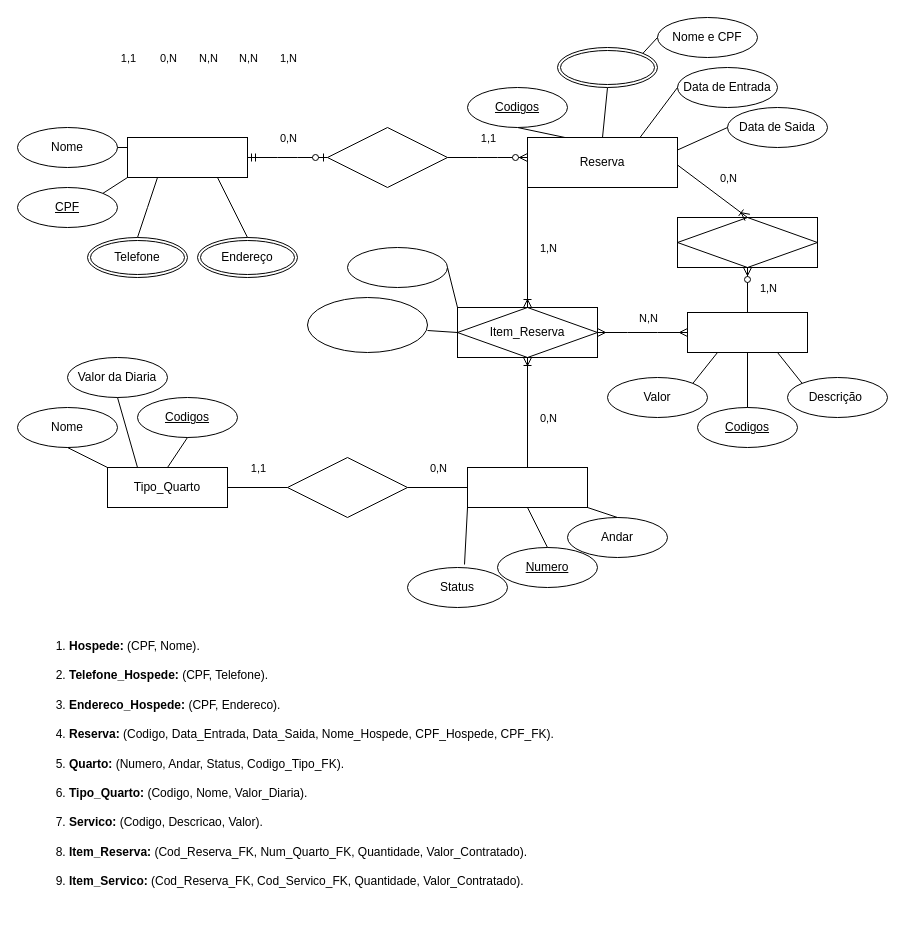
Image size: 905x925. Some labels were removed from this diagram. Here are the shapes that lost their labels. From the top down, the centre of each, then its label:
point 607,67: Dados dos Hospedes
point 187,157: Hospede
point 387,157: Realiza
point 747,242: Item_Serviço
point 397,267: Quantidade
point 367,324: Valor no momento contratação
point 747,332: Serviço
point 347,487: Possui
point 527,487: Quartos
